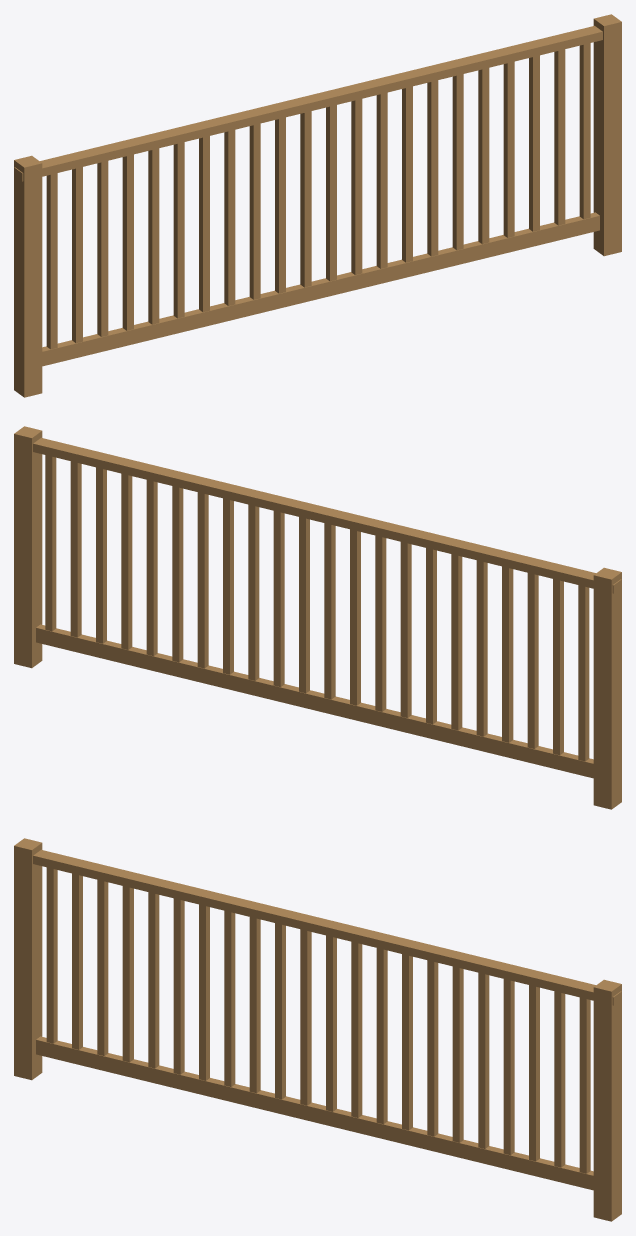
File: home.lodge.deck_rail.glb
3 renders of one model, top to bottom at view 1: azimuth 30°, elevation 25°; view 2: azimuth 150°, elevation 25°; view 3: azimuth 330°, elevation 25°, orthographic.
Visible parts, largest first — view 1: main__softwood; view 2: main__softwood; view 3: main__softwood.
Part boxes in pixels (<box>): main__softwood: <box>14,14,621,397</box>; main__softwood: <box>14,426,621,809</box>; main__softwood: <box>14,838,621,1221</box>.
Size of the model in its own units: 3 by 1.1 by 0.09.
